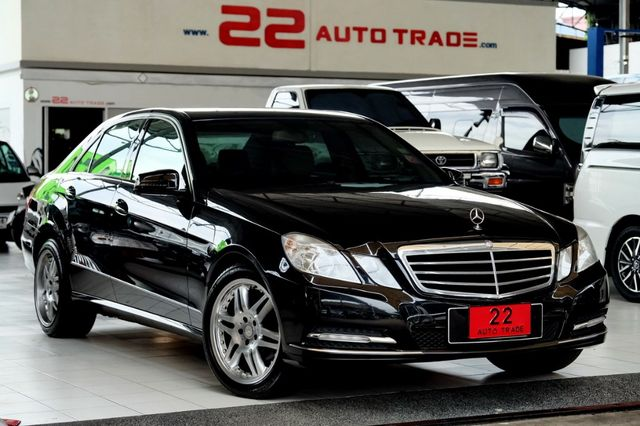sedan: (19, 105, 614, 394)
